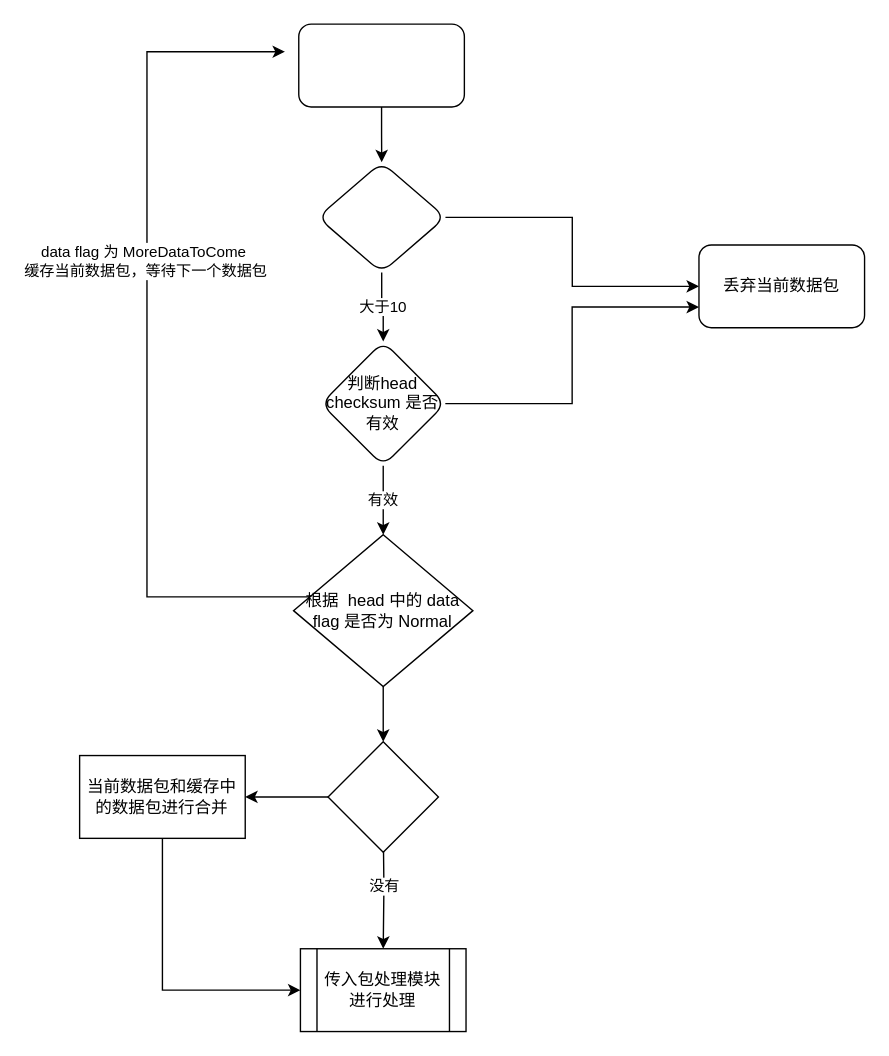
The diagram is 889 pixels wide and 1056 high, and some of its shapes have lost their labels. Here are the shapes that lost their labels. From the top down, the centre of each, then its label:
At [380,65]: "收到数据包".
At [380,217]: "判断数据包长度是否大于10".
At [382,796]: "判断缓存中是否有数据包".
